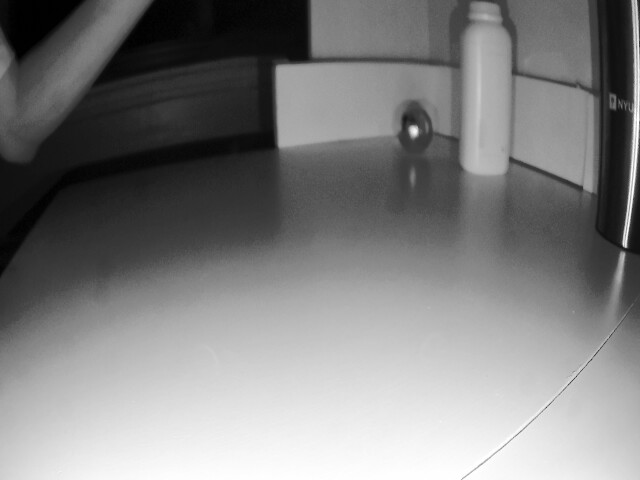silver: (398, 97, 430, 150)
